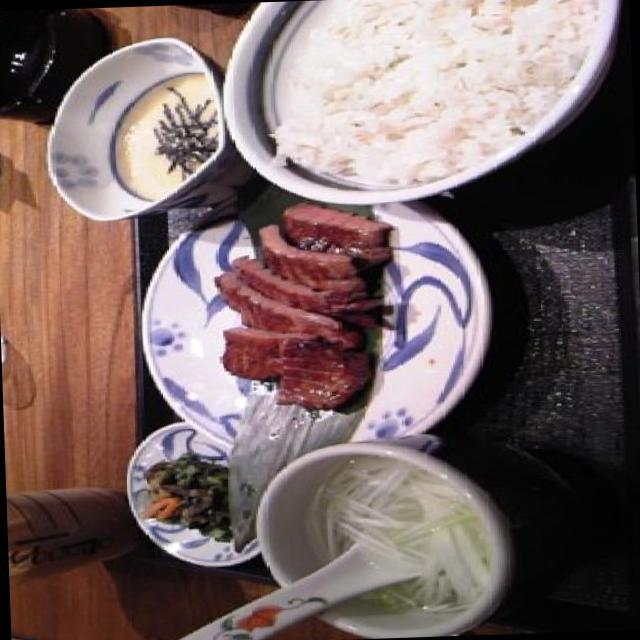Rice: (283, 0, 610, 180)
